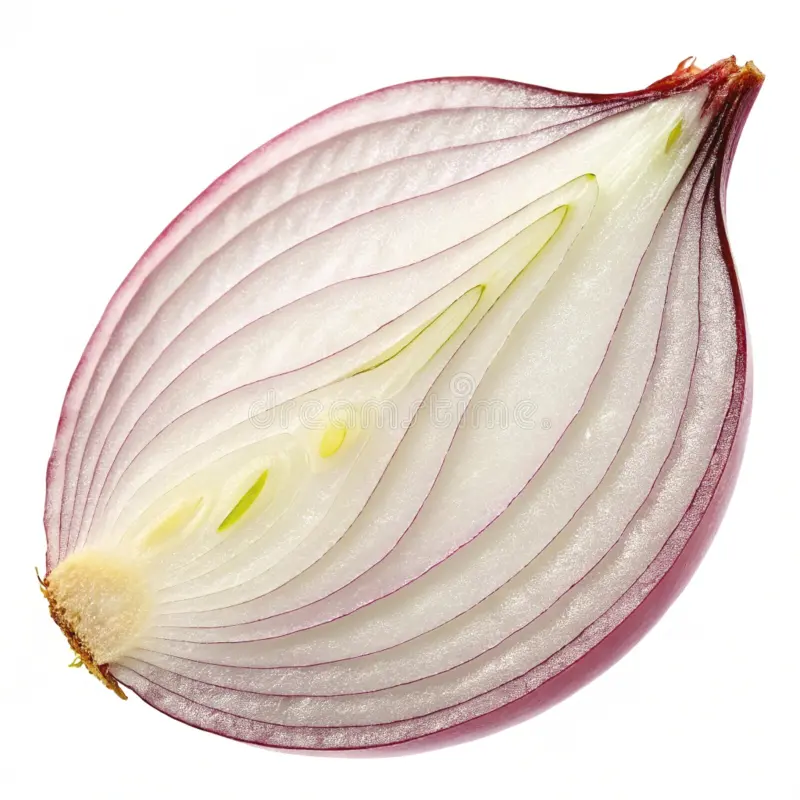onion: (64, 16, 762, 762)
